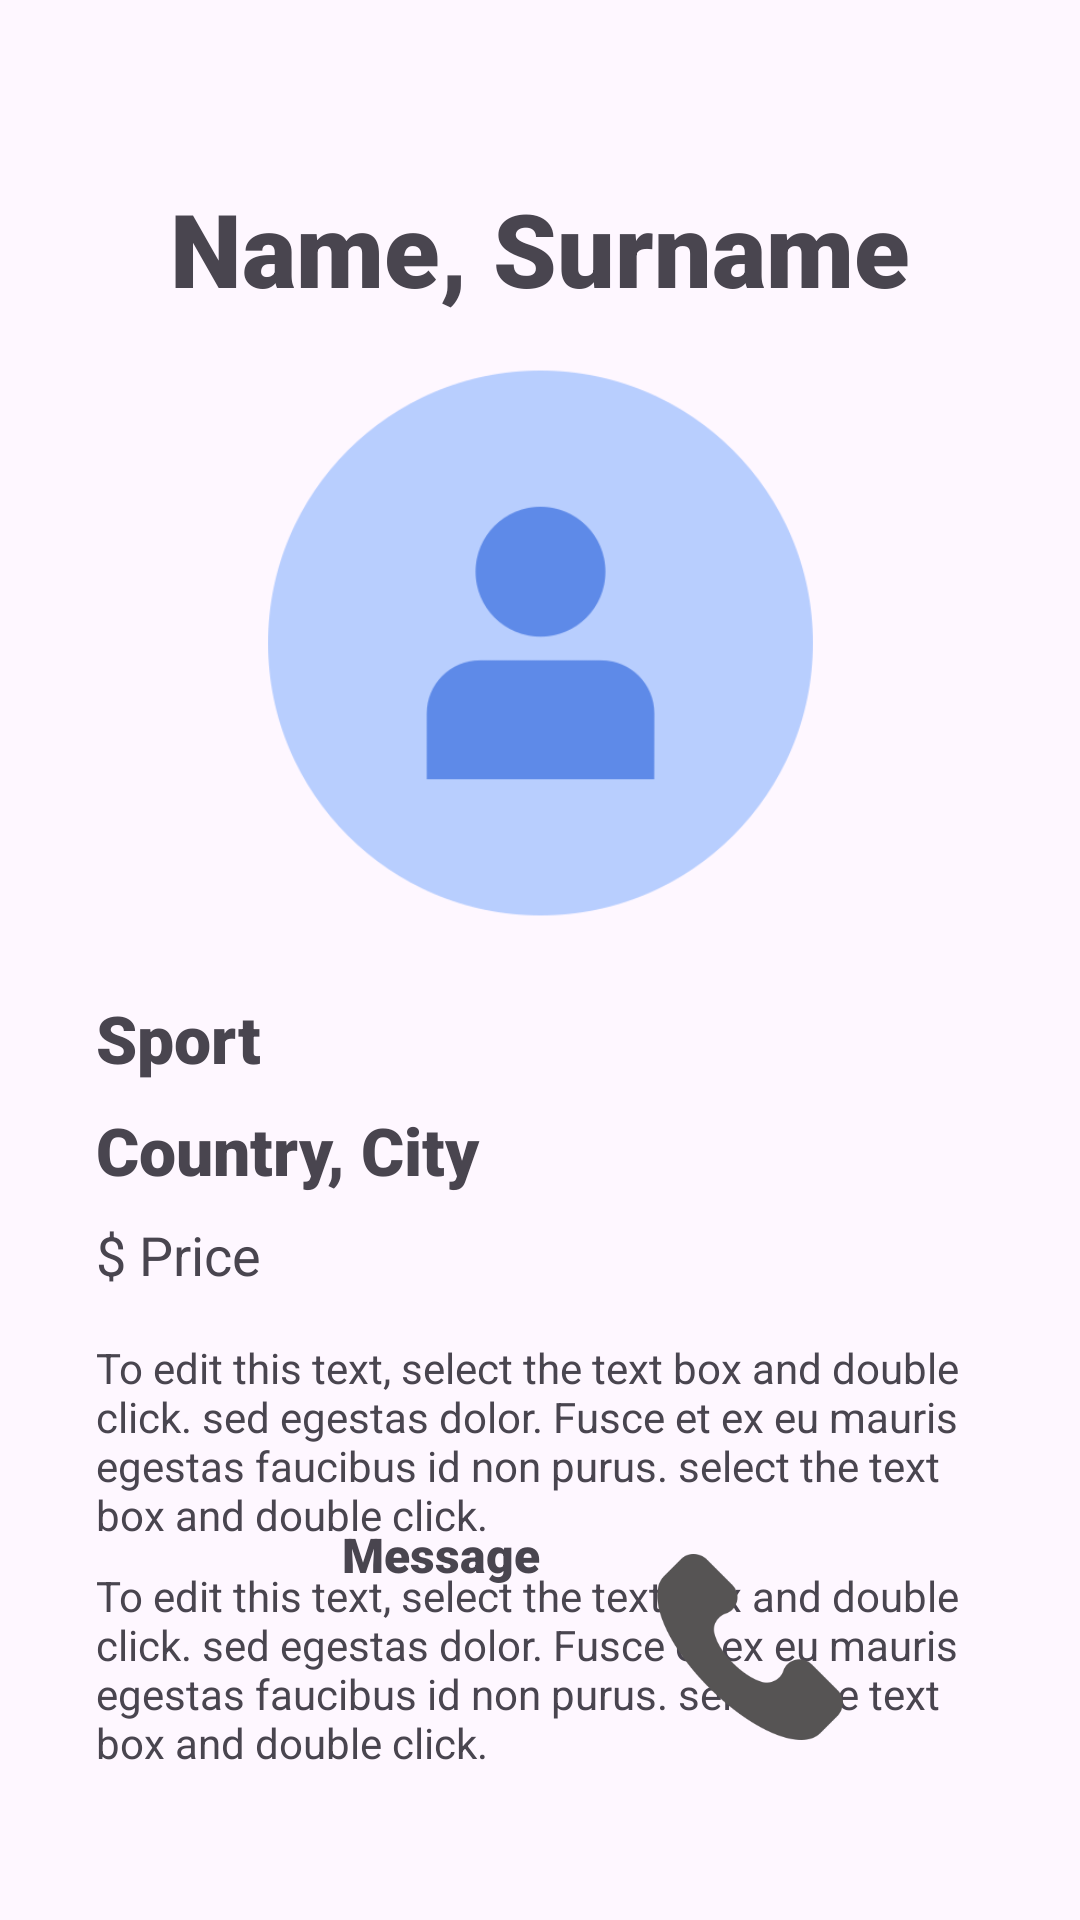

Screen size 1080*1920. Icon name, then its center in pixels as point (x, y):
phone: point (750, 1647)
